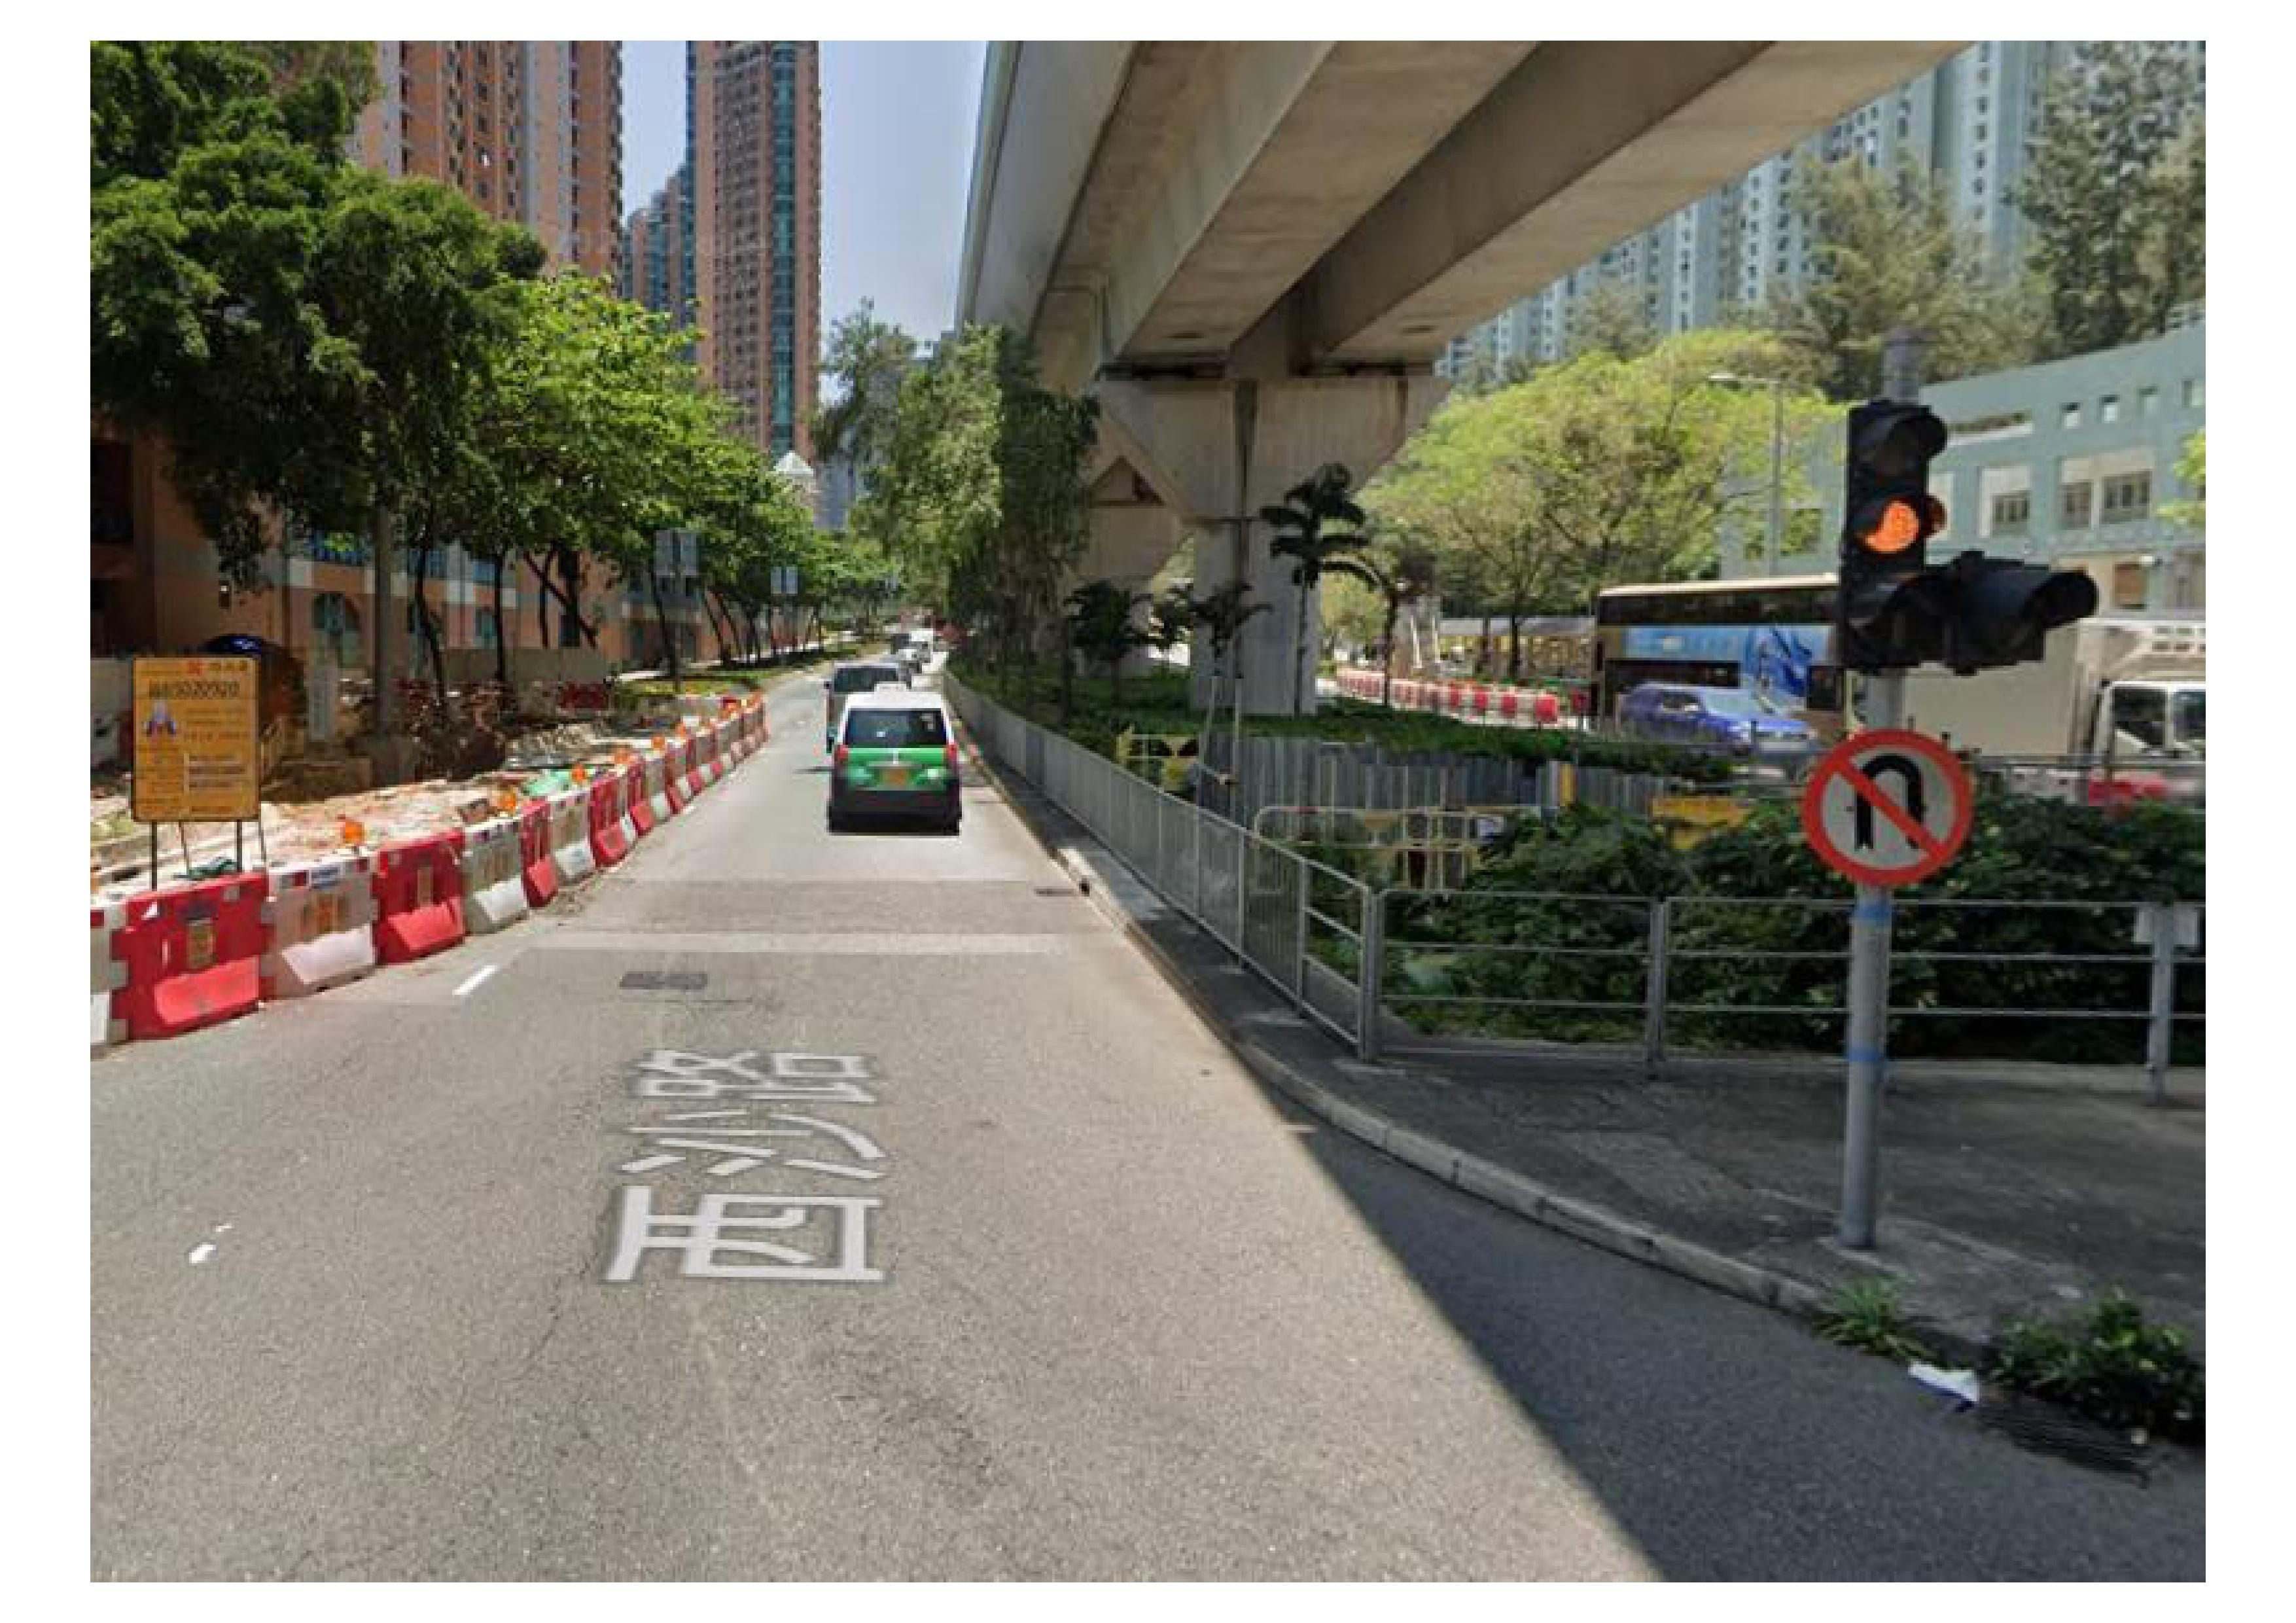No Uturn: (1808, 724, 1982, 887)
